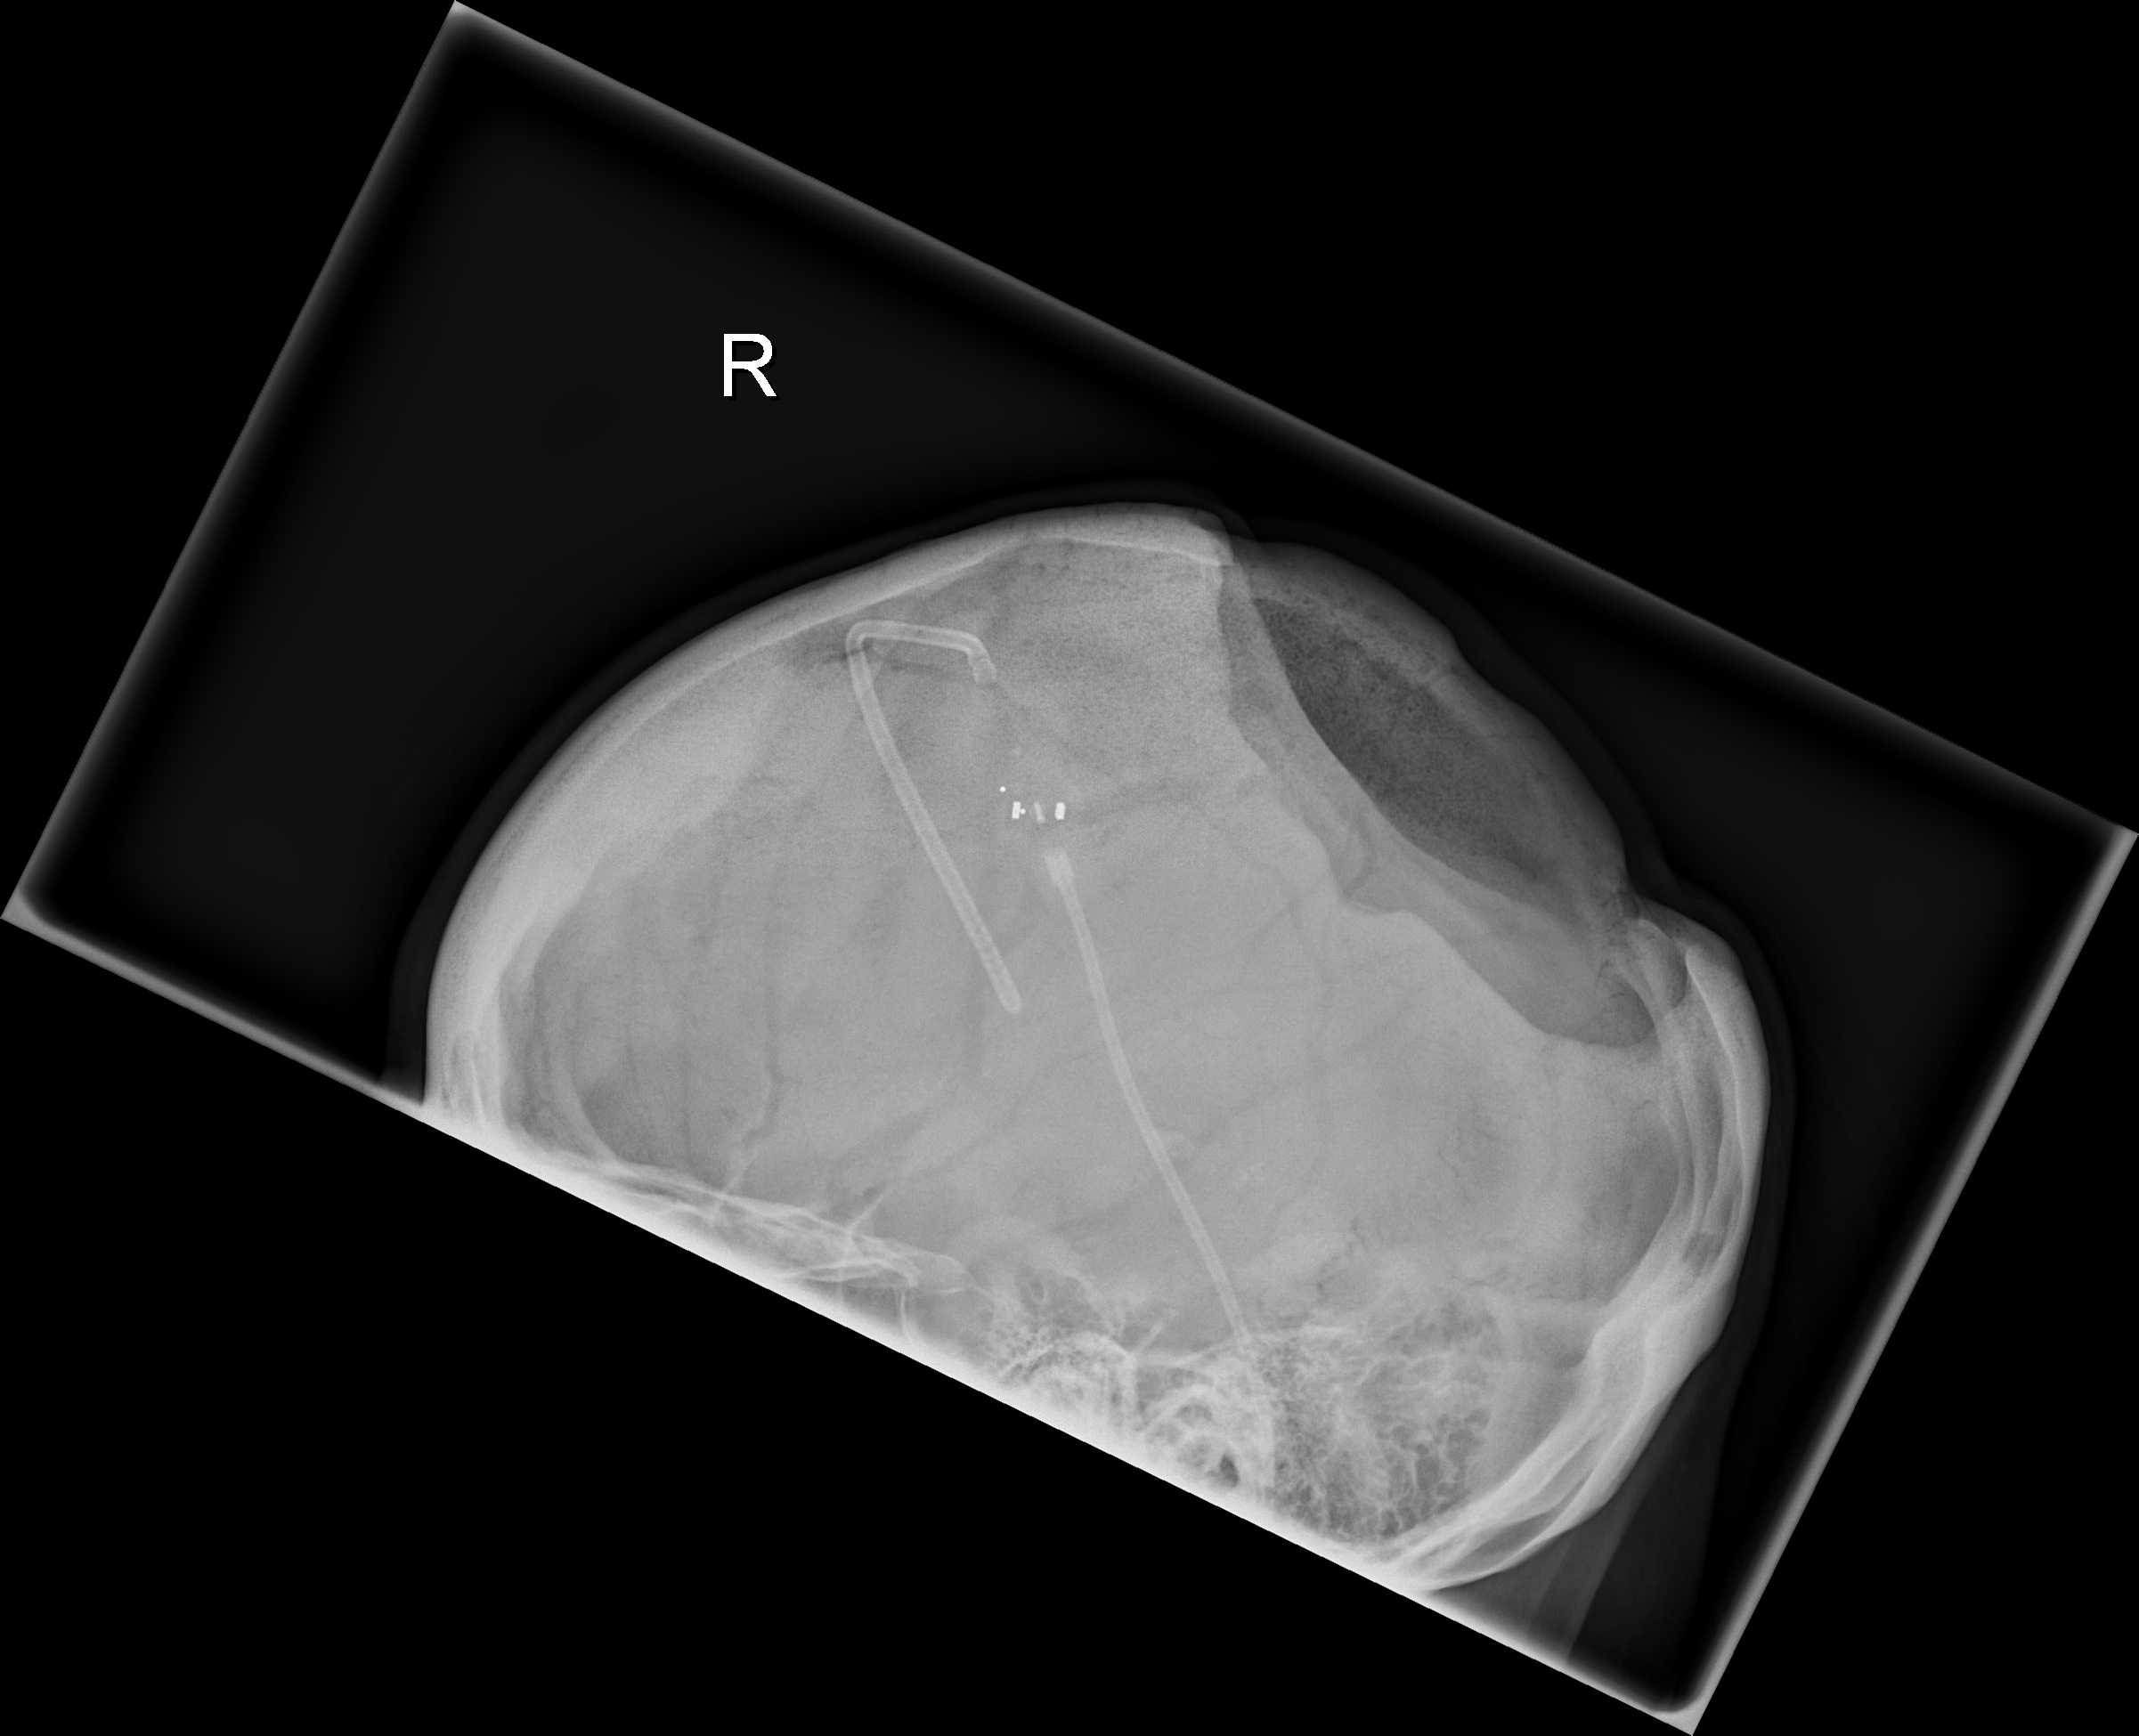Codman Certas: (994, 758, 1090, 864)
